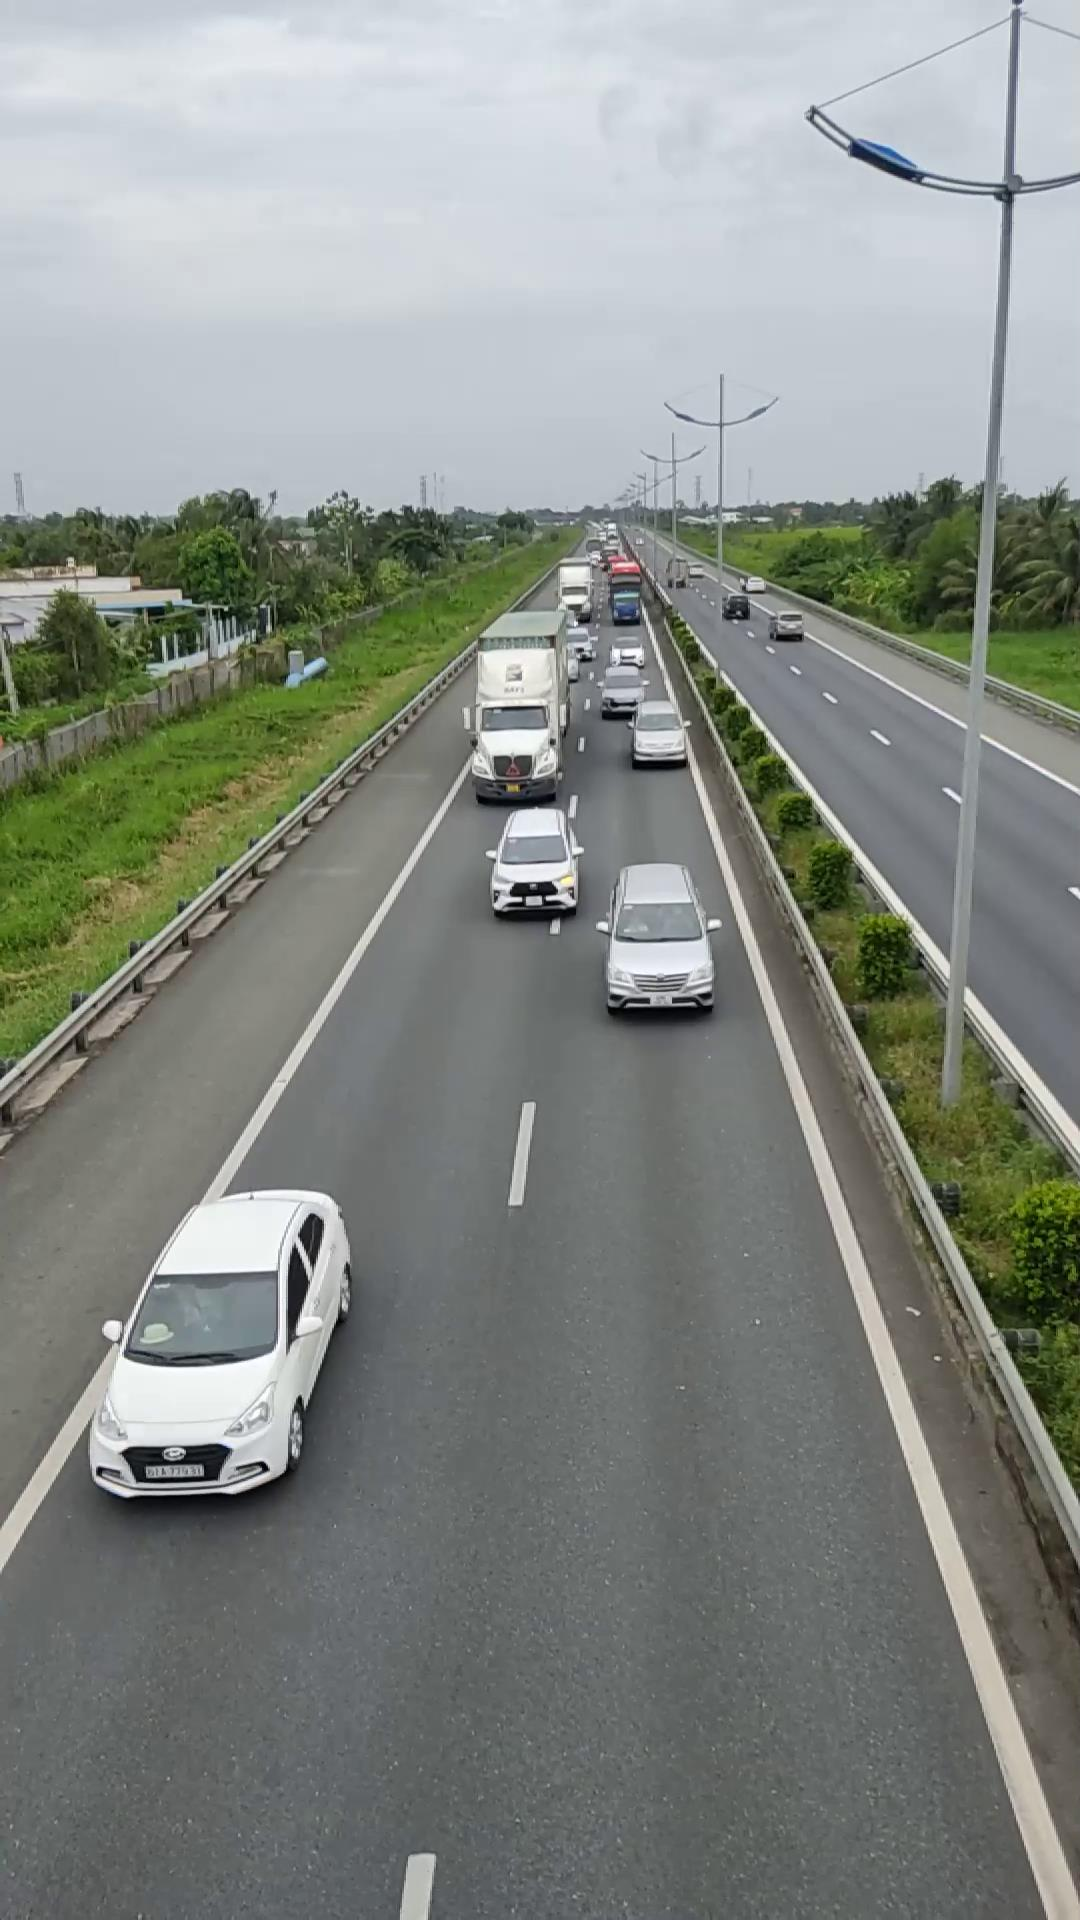car: (81, 1185, 356, 1501), (600, 861, 717, 1014), (486, 805, 584, 917), (628, 702, 692, 766)
container: (465, 606, 574, 803)
